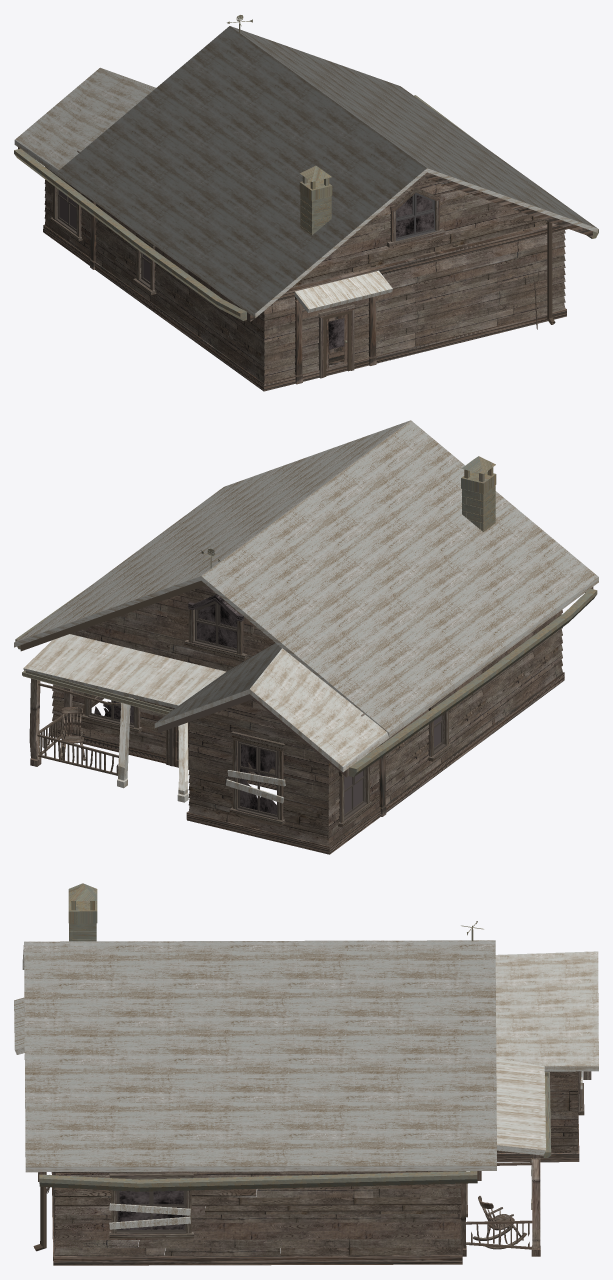
Rendered from Casa_norotada.obj.
The picture shows the model from 3 angles, top to bottom: view 1: azimuth 30°, elevation 25°; view 2: azimuth 150°, elevation 25°; view 3: azimuth 270°, elevation 25°; orthographic projection. The views are drawn at different scales.
Visible parts, largest first — view 1: Cube.247, tablones_casa.001, Cube.248, interior_casa.003, Plane.028, interior_casa.004, Cube.246, Window.013, Cube.251, tablones_hab.001, Door.004, Cube.253 (+7 smaller); view 2: Cube.247, tablones_casa.001, tablones_hab.001, Cube.248, Cube.232, Plane.028, interior_casa.003, interior_hab.002, Plane.029, Cube.249, Cube.253, Plane.032 (+11 smaller); view 3: Cube.247, tablones_casa.001, Cube.248, Plane.027, Cube.232, interior_casa.003, tablones_hab.001, Plane.031, Cube.252, Cube.233, Window.008, interior_hab.002 (+6 smaller).
Part boxes in pixels (box(x1,y1,x2,y2)): Cube.247: box(58, 26, 597, 318); tablones_casa.001: box(95, 177, 565, 383); Cube.248: box(14, 67, 155, 176); interior_casa.003: box(95, 262, 566, 391); Plane.028: box(14, 148, 246, 320); interior_casa.004: box(275, 223, 567, 301); Cube.246: box(294, 270, 392, 312); Window.013: box(396, 192, 436, 241); Cube.251: box(247, 172, 592, 322); tablones_hab.001: box(44, 150, 90, 257); Door.004: box(326, 314, 347, 368); Cube.253: box(300, 192, 331, 235); Cube.247: box(14, 420, 598, 737); tablones_casa.001: box(52, 585, 562, 803); tablones_hab.001: box(188, 699, 379, 846); Cube.248: box(154, 643, 389, 772); Cube.232: box(23, 634, 226, 708); Plane.028: box(349, 588, 597, 777); interior_casa.003: box(50, 672, 564, 812); interior_hab.002: box(186, 808, 380, 854); Plane.029: box(240, 744, 276, 814); Cube.249: box(20, 580, 205, 651); Cube.253: box(462, 485, 495, 531); Plane.032: box(197, 604, 236, 648); Cube.247: box(22, 940, 496, 1172); tablones_casa.001: box(53, 1171, 461, 1256); Cube.248: box(495, 951, 598, 1071); Plane.027: box(39, 1171, 477, 1191); Cube.232: box(496, 1058, 545, 1155); interior_casa.003: box(51, 1172, 462, 1265); tablones_hab.001: box(497, 1071, 578, 1152); Plane.031: box(118, 1190, 184, 1229); Cube.252: box(68, 883, 97, 940); Cube.233: box(531, 1154, 540, 1256); Window.008: box(116, 1190, 186, 1233); interior_hab.002: box(497, 1115, 579, 1162).
Size of the model in its own units: 13.14 by 7.41 by 15.28.
Materials: 9 (9 with a texture image).
